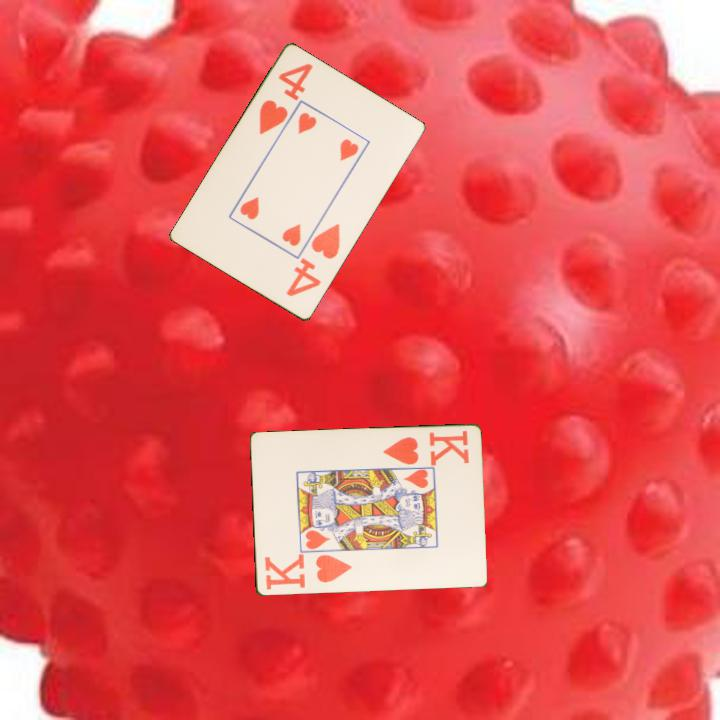4h: (282, 220, 343, 300), (255, 60, 316, 138)
Kh: (261, 552, 354, 593), (379, 427, 472, 468)
